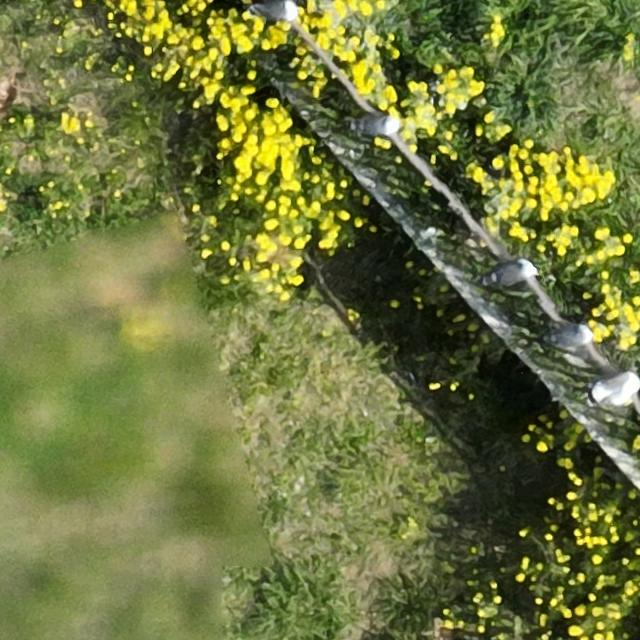umineko: (595, 374, 636, 402), (488, 261, 535, 285), (543, 326, 594, 348), (352, 115, 398, 136), (253, 1, 298, 21)
